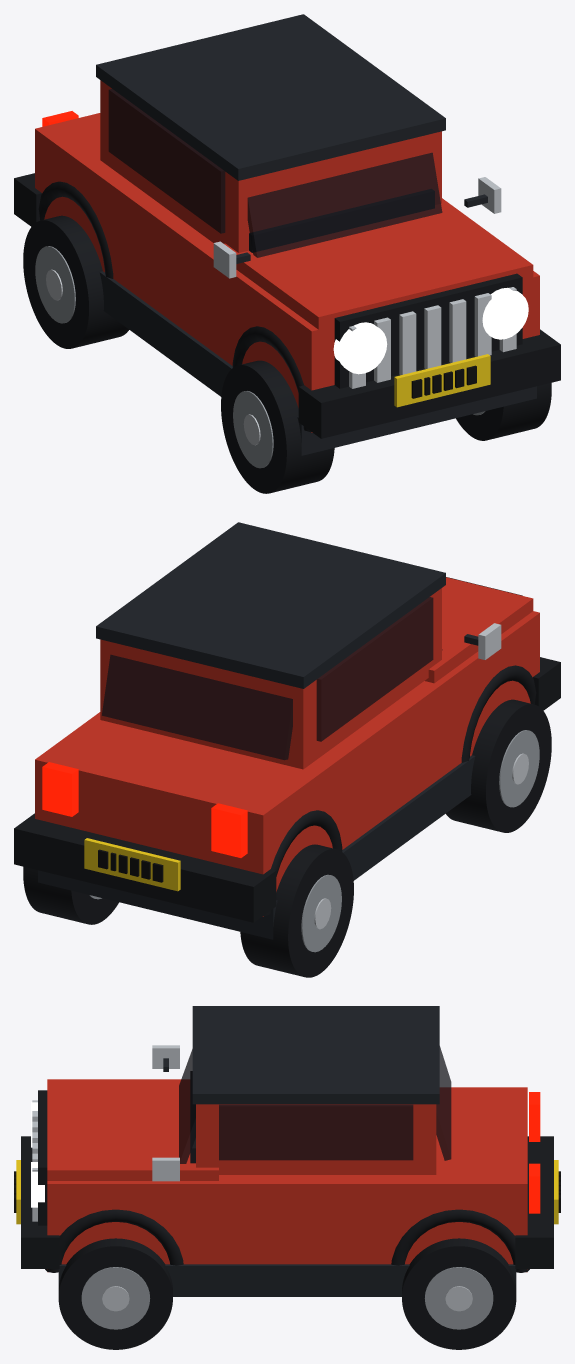
File: vehicle.glb
3 renders of one model, top to bottom at view 1: azimuth 30°, elevation 25°; view 2: azimuth 150°, elevation 25°; view 3: azimuth 270°, elevation 25°, orthographic. The views are drawn at different scales.
Visible parts, largest first — view 1: chassis, wheel_FL, wheel_RL, wheel_FR, mirror_right, mirror_left; view 2: chassis, wheel_RL, wheel_FL, wheel_RR, mirror_left; view 3: chassis, wheel_FR, wheel_RR, mirror_right, mirror_left.
Part boxes in pixels (left/top/right/bottom): chassis: left=14, top=14, right=560, bottom=455; wheel_FL: left=221, top=360, right=334, bottom=493; wheel_RL: left=23, top=215, right=128, bottom=348; wheel_FR: left=456, top=382, right=551, bottom=440; mirror_right: left=464, top=177, right=501, bottom=213; mirror_left: left=213, top=241, right=250, bottom=278; chassis: left=14, top=522, right=560, bottom=939; wheel_RL: left=240, top=844, right=353, bottom=977; wheel_FL: left=446, top=699, right=551, bottom=832; wheel_RR: left=23, top=866, right=118, bottom=924; mirror_left: left=464, top=623, right=501, bottom=659; chassis: left=14, top=1006, right=560, bottom=1296; wheel_FR: left=58, top=1238, right=172, bottom=1349; wheel_RR: left=402, top=1238, right=516, bottom=1349; mirror_right: left=152, top=1157, right=179, bottom=1181; mirror_left: left=152, top=1045, right=179, bottom=1071.
Bounding box in the file's own units: 2.38 × 2.35 × 4.78.
